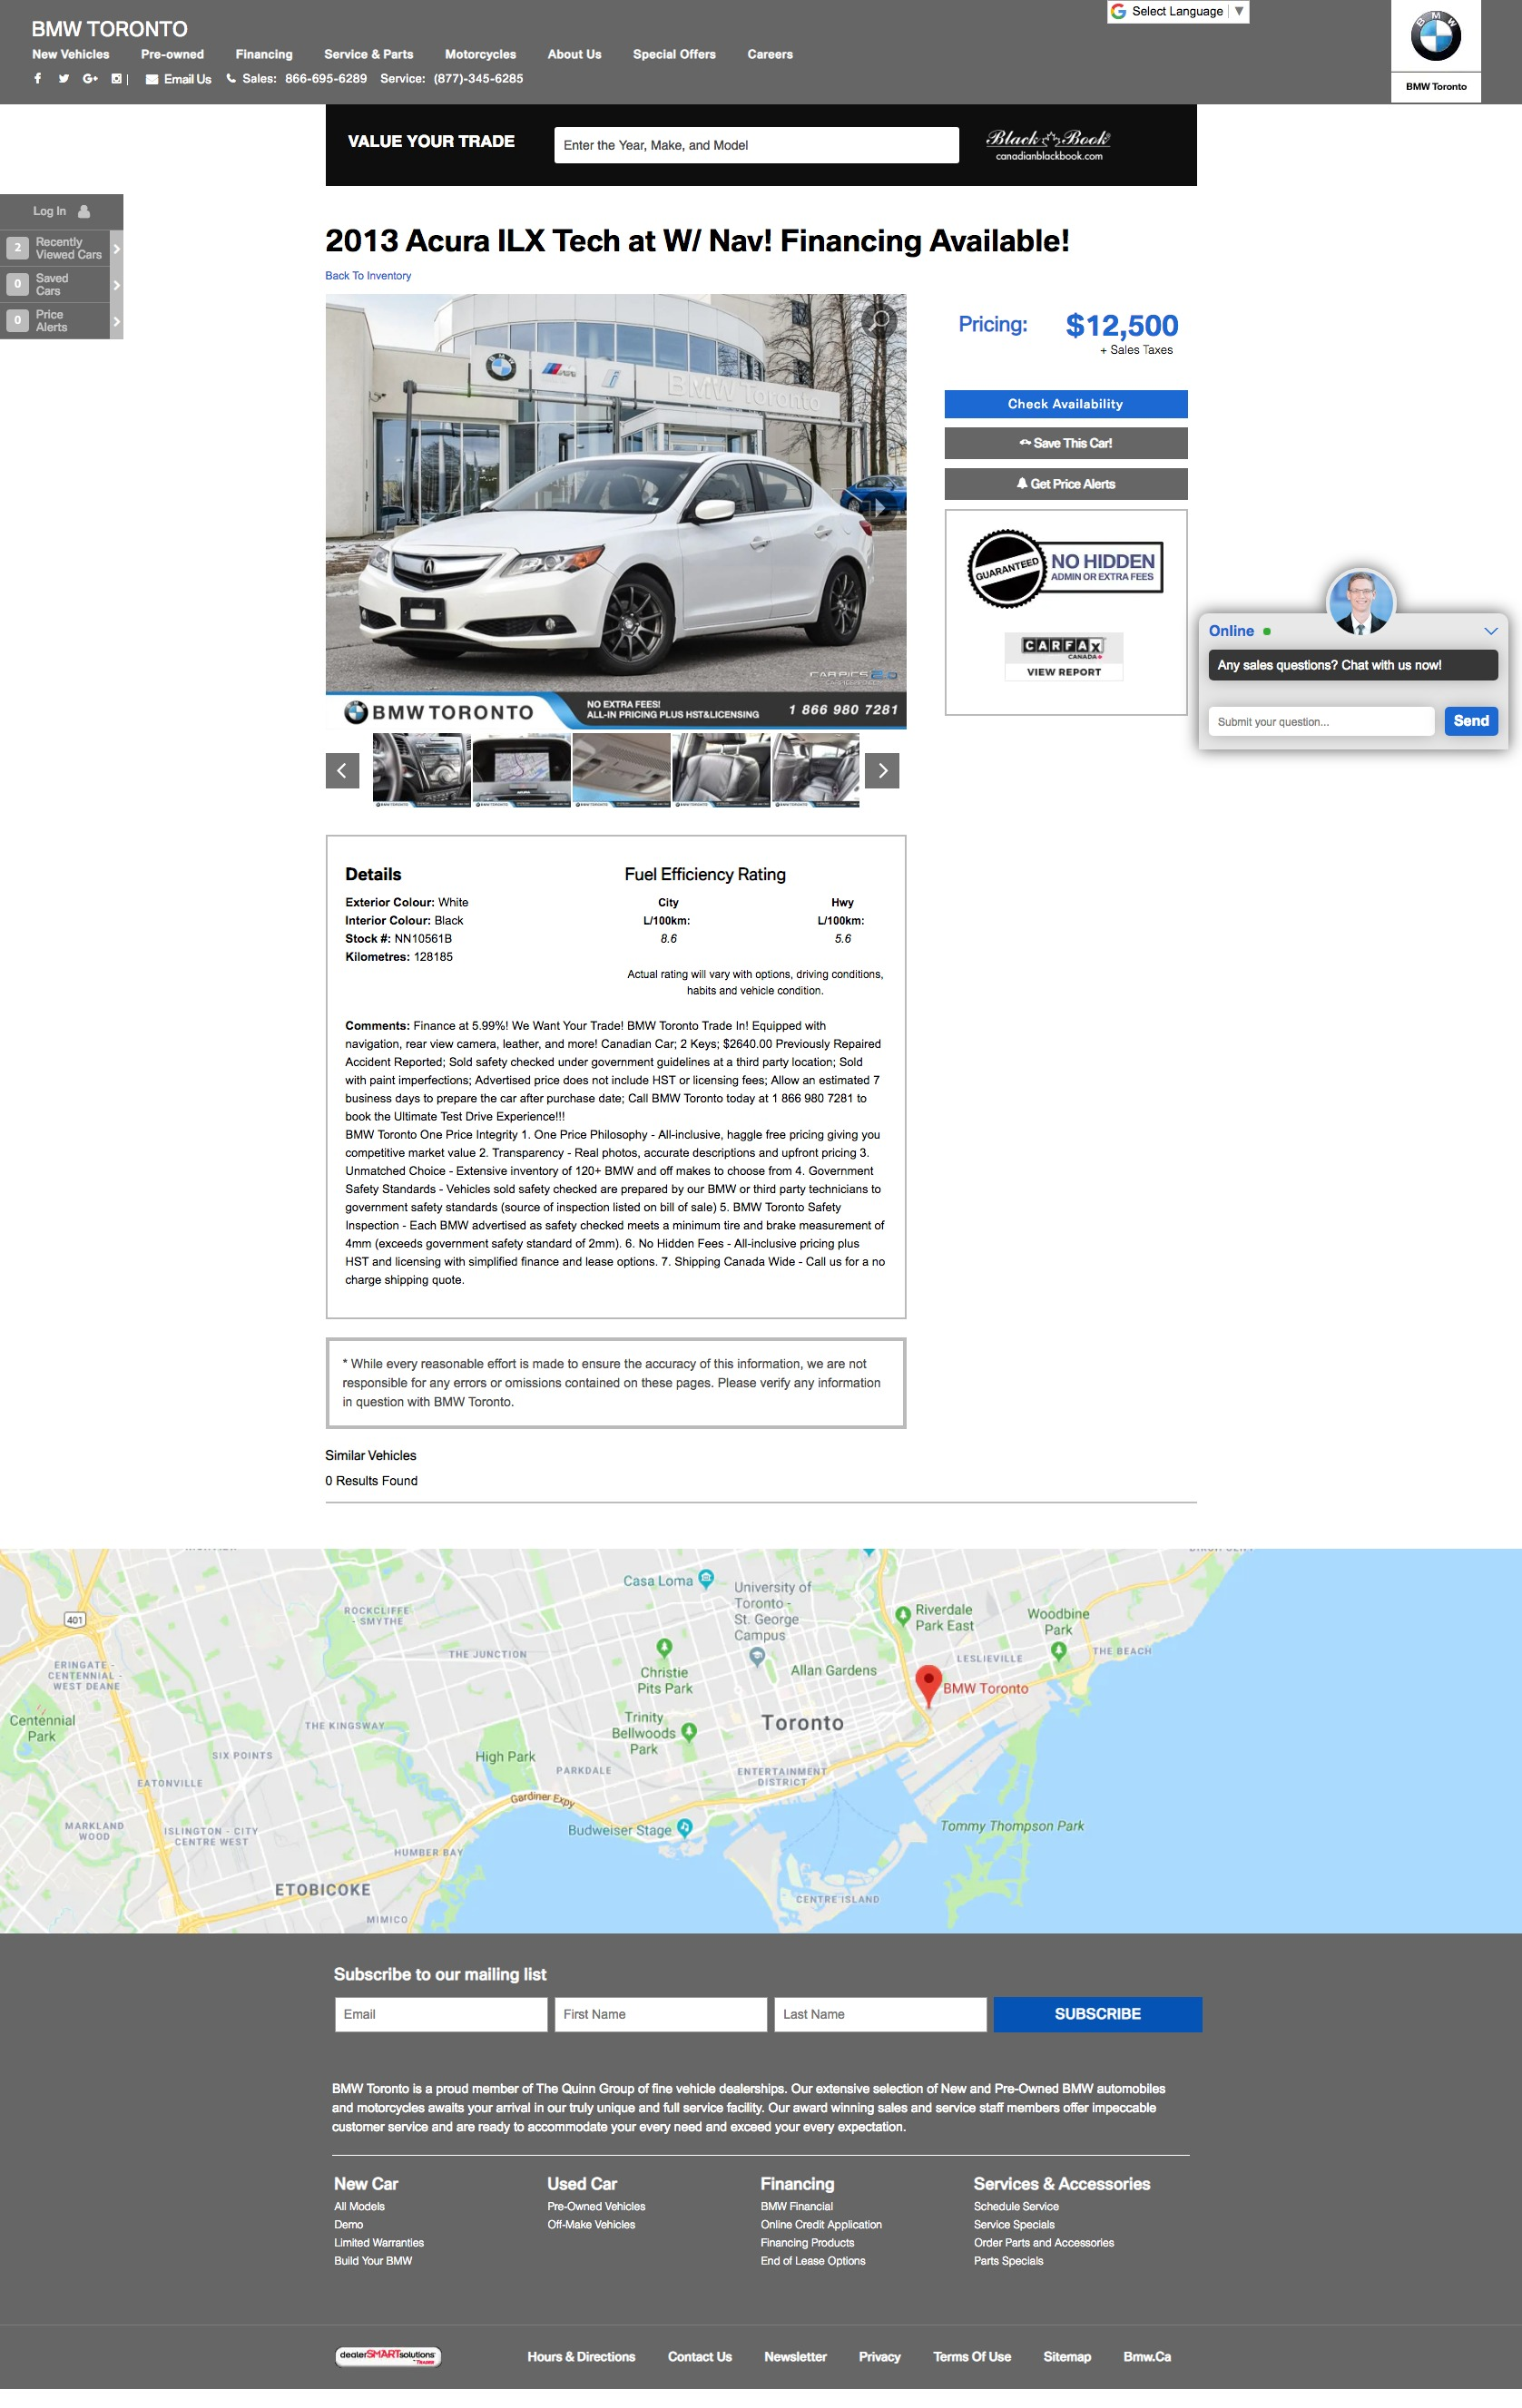car: (864, 754, 901, 790)
